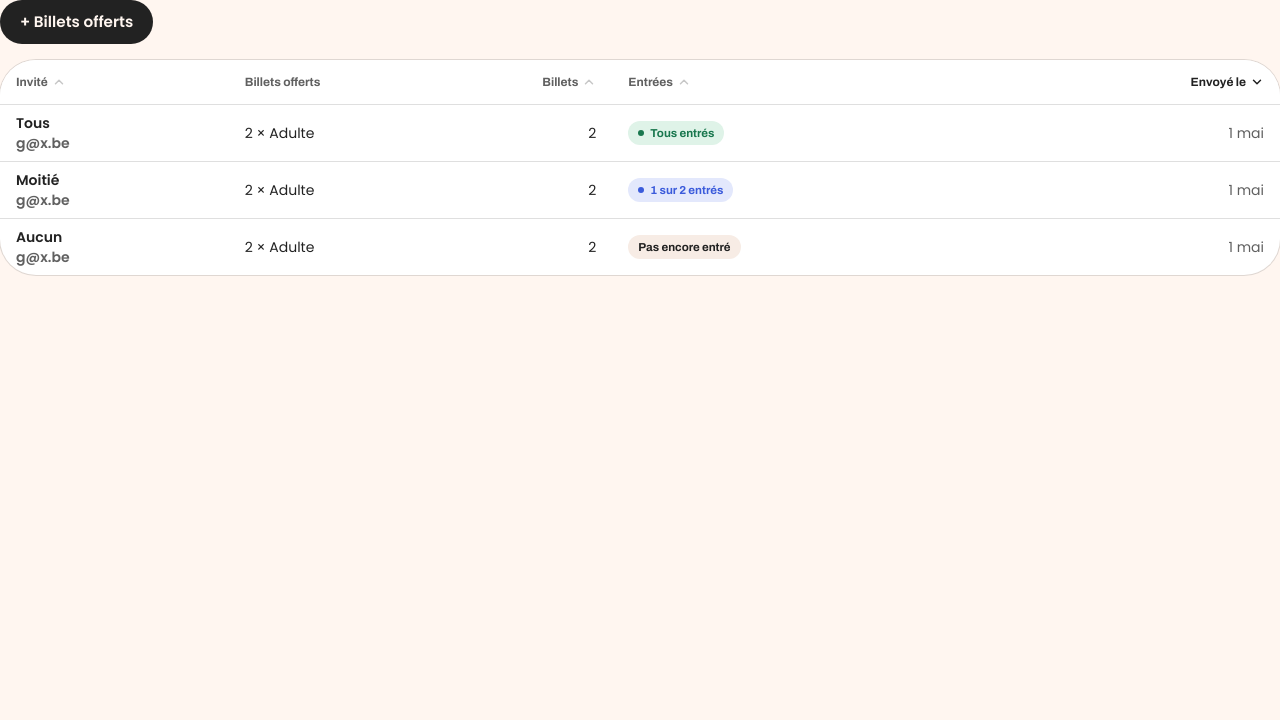
Test case: billetterie et finances › billets offerts : entrées en pastilles ; « Offrir des billets » ouvre la fenêtre avec le formulaire
Click the button "+ Billets offerts": (77,22) [0,0,153,44]
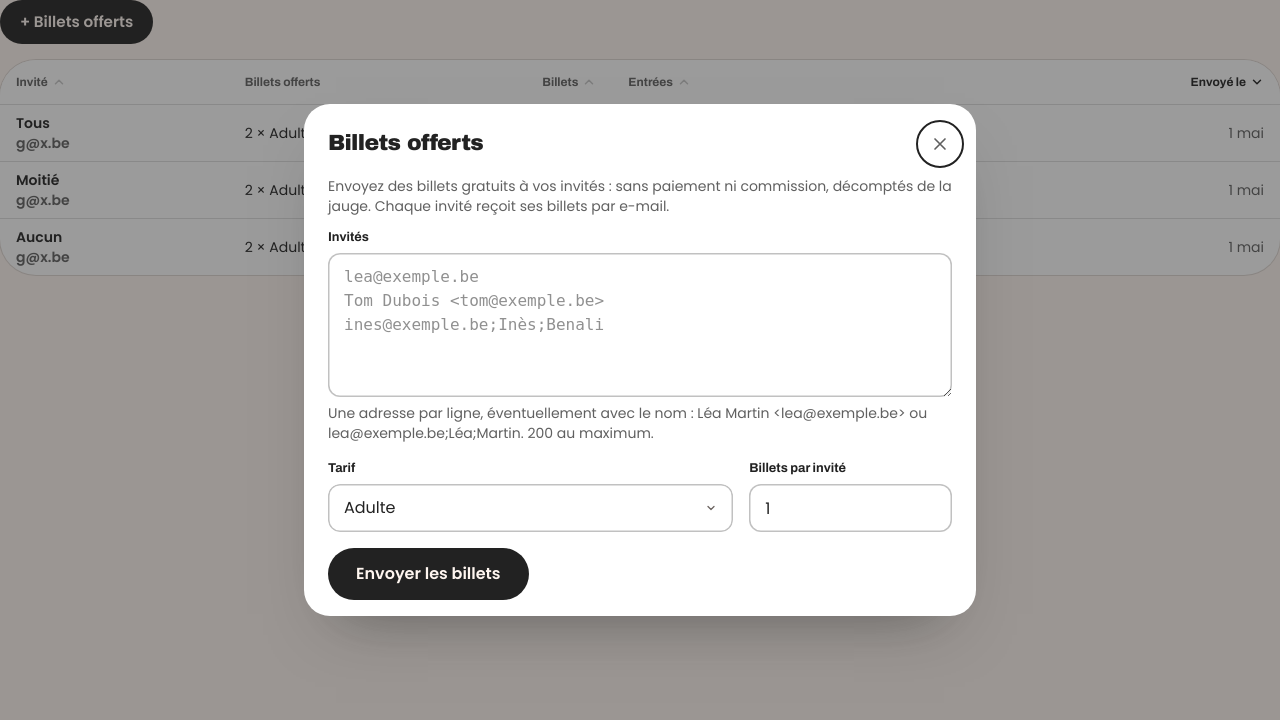
Expected: the text box labelled "Invités" is shown, [328,253,952,397]
